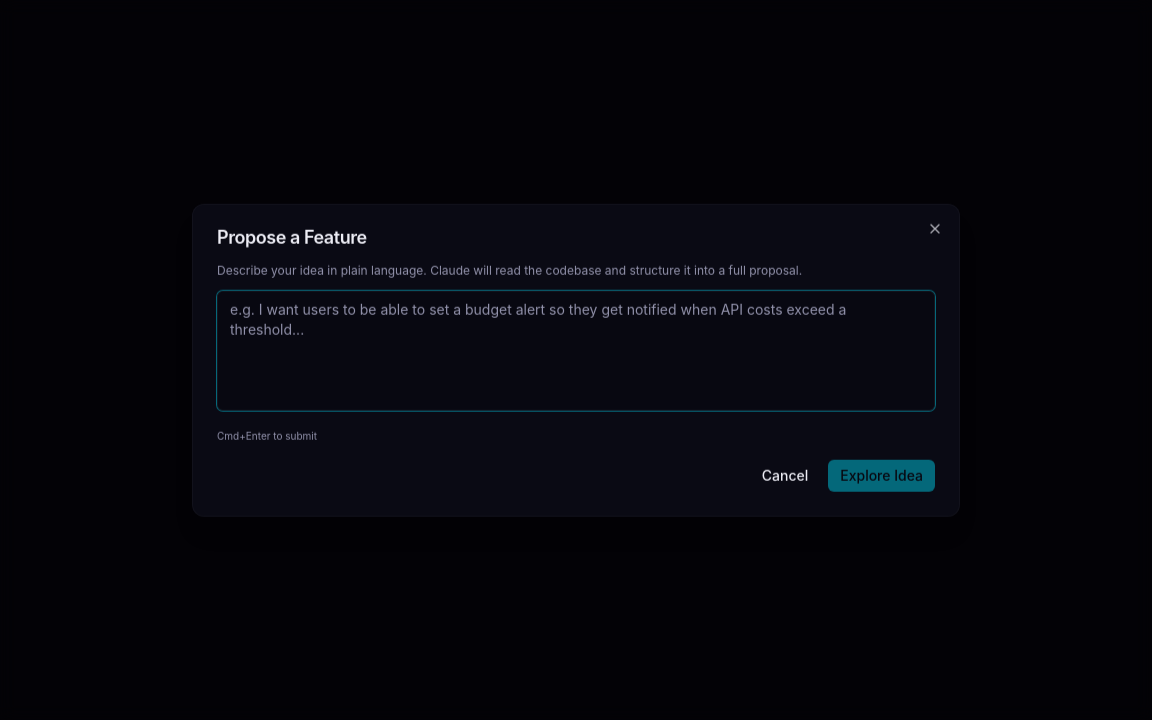
Scenario: FeatureProposalModal › "Explore Idea" button is enabled when idea is typed
Type "Build a dashboard" into the text box named "Feature idea". click: x=576, y=351
box: left=217, top=291, right=935, bottom=411
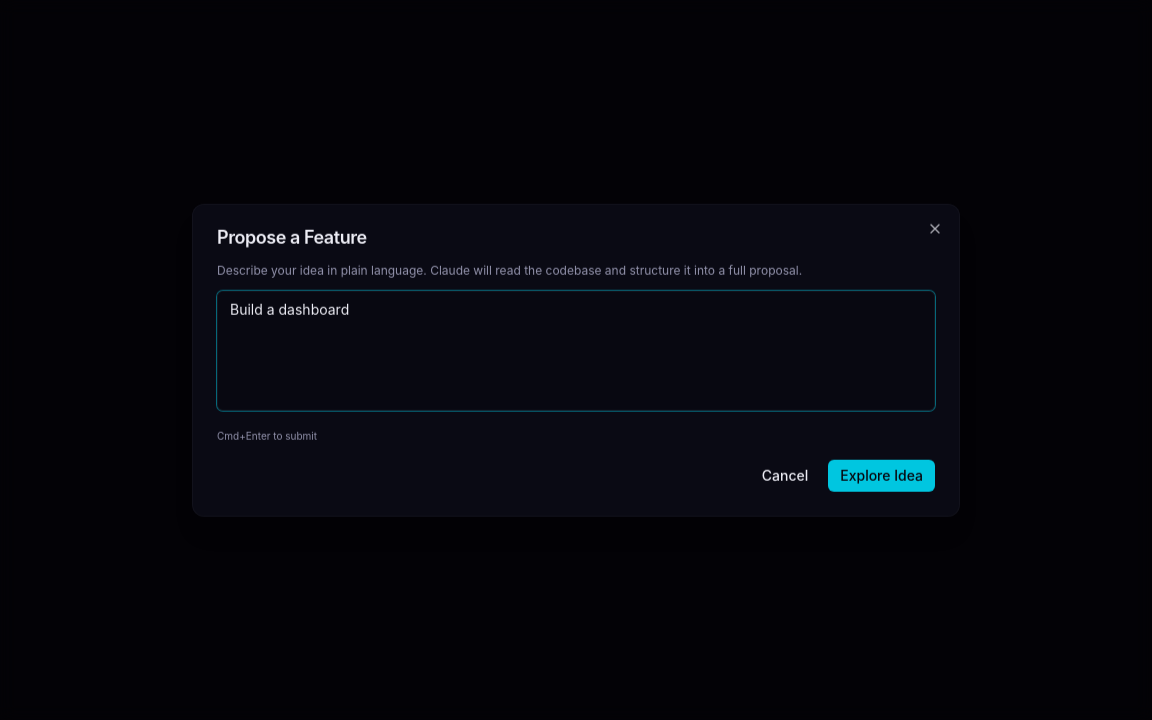
Expected: the button "Explore Idea" is enabled, left=828, top=459, right=935, bottom=491
